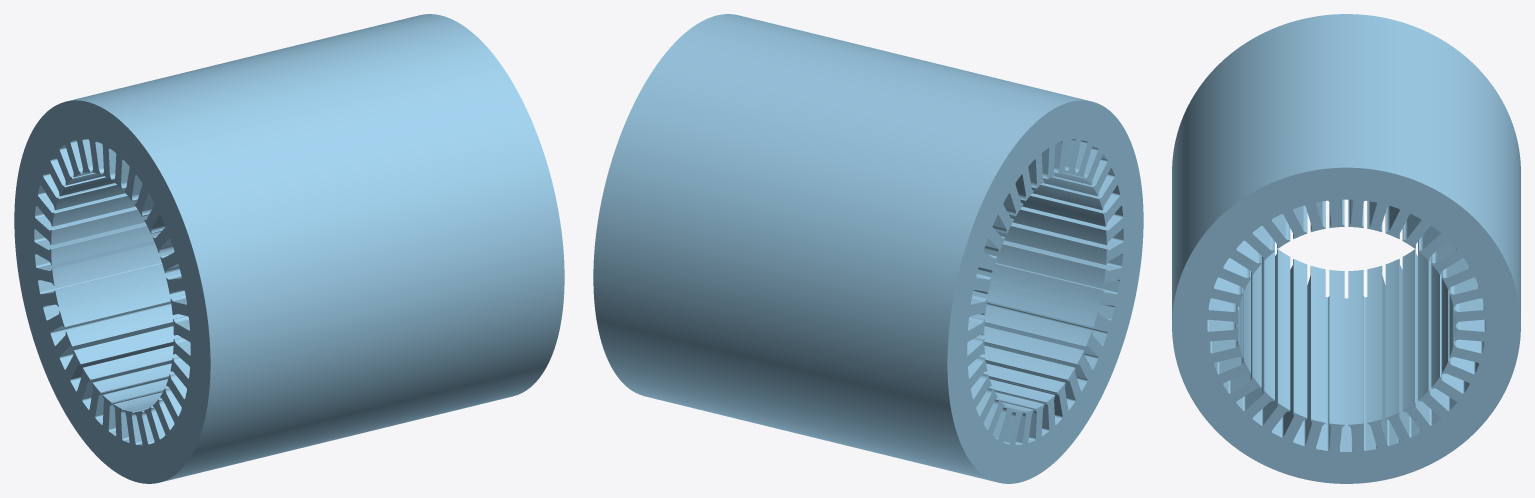
File: stator.dae
3 renders of one model, left to right at view 1: azimuth 30°, elevation 25°; view 2: azimuth 150°, elevation 25°; view 3: azimuth 270°, elevation 25°, orthographic. The views are drawn at different scales.
Parts seen in each view (by area): view 1: ID2; view 2: ID2; view 3: ID2.
Part boxes in pixels (bbox=[...]): ID2: bbox=[14, 14, 564, 483]; ID2: bbox=[593, 14, 1143, 483]; ID2: bbox=[1172, 14, 1520, 483].
Bounding box in the file's own units: 0.25 × 0.2399 × 0.24.
